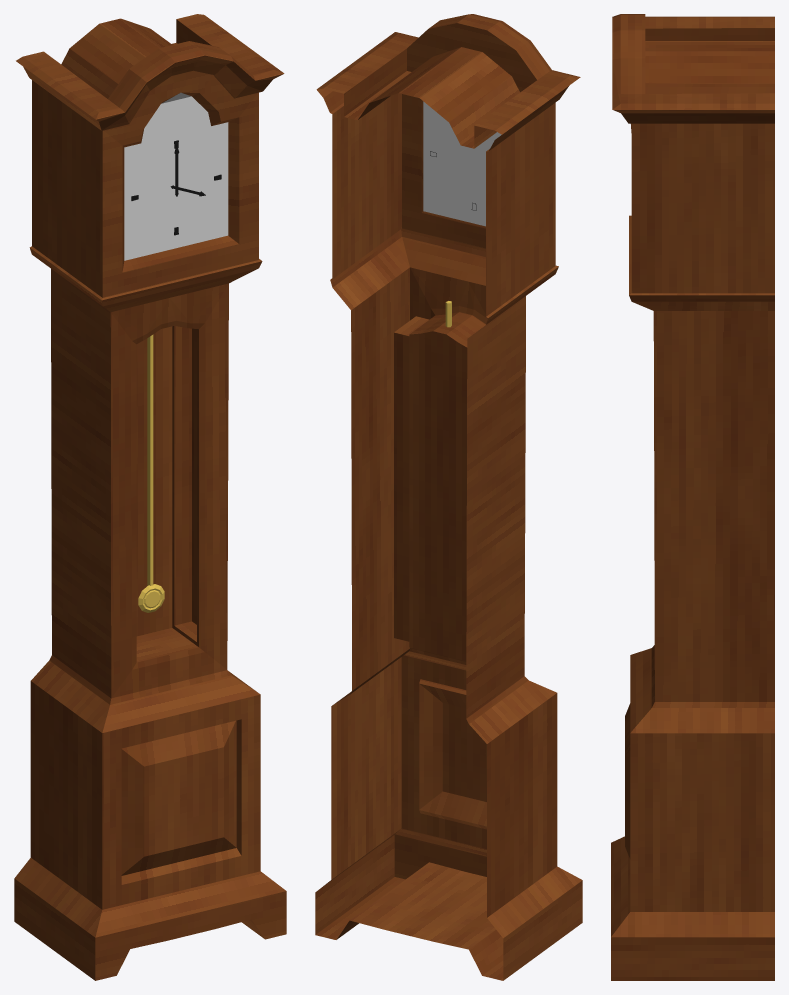
Rendered from grandfather-clock.glb.
The picture shows the model from 3 angles, left to right: view 1: azimuth 30°, elevation 25°; view 2: azimuth 150°, elevation 25°; view 3: azimuth 270°, elevation 25°; orthographic projection. The views are drawn at different scales.
Visible parts, largest first — view 1: Grandfathers_clock.001, Grandfathers_clock; view 2: Grandfathers_clock.001, Grandfathers_clock; view 3: Grandfathers_clock.001.
Part boxes in pixels (left/top/right/bottom): Grandfathers_clock.001: left=14, top=14, right=286, bottom=980; Grandfathers_clock: left=124, top=92, right=228, bottom=612; Grandfathers_clock.001: left=315, top=14, right=582, bottom=980; Grandfathers_clock: left=423, top=101, right=501, bottom=327; Grandfathers_clock.001: left=611, top=14, right=774, bottom=980.
Size of the model in its own units: 0.3032 by 1.36 by 0.2224.
Materials: 2 (2 with a texture image).
